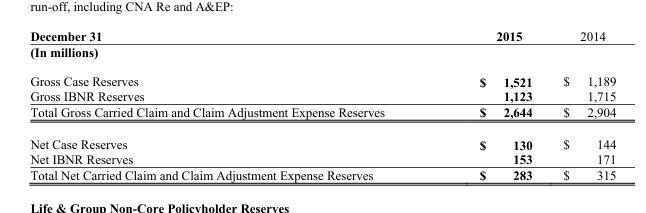table: (29, 28, 615, 181)
table column: (29, 28, 431, 181), (431, 28, 547, 181), (547, 28, 615, 181)
table column header: (29, 28, 615, 43)
table projected row header: (29, 43, 615, 66)
table row: (29, 103, 615, 127), (29, 127, 615, 151), (29, 43, 615, 66), (29, 66, 615, 88), (29, 28, 615, 43), (29, 88, 615, 103), (29, 151, 615, 166), (29, 166, 615, 181)
